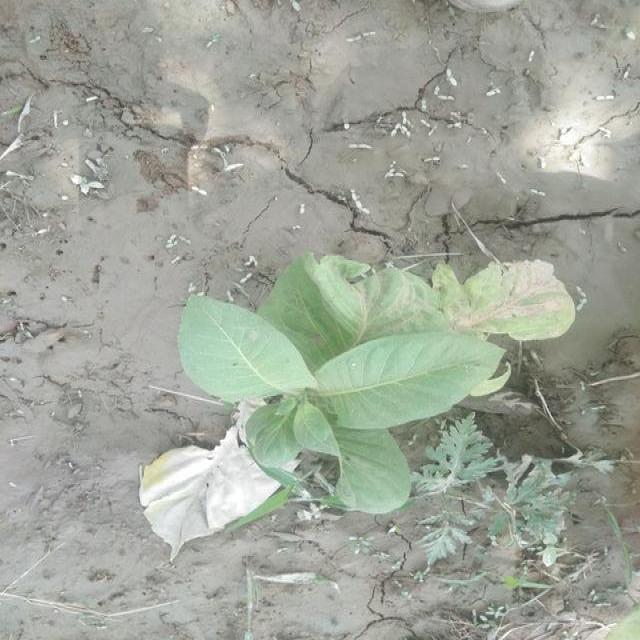crop: (150, 261, 570, 527)
